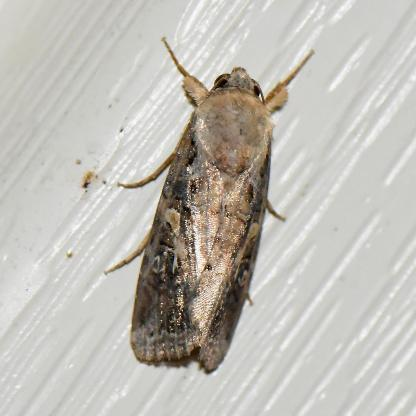Fall Armyworm Moth: (101, 34, 318, 376)
